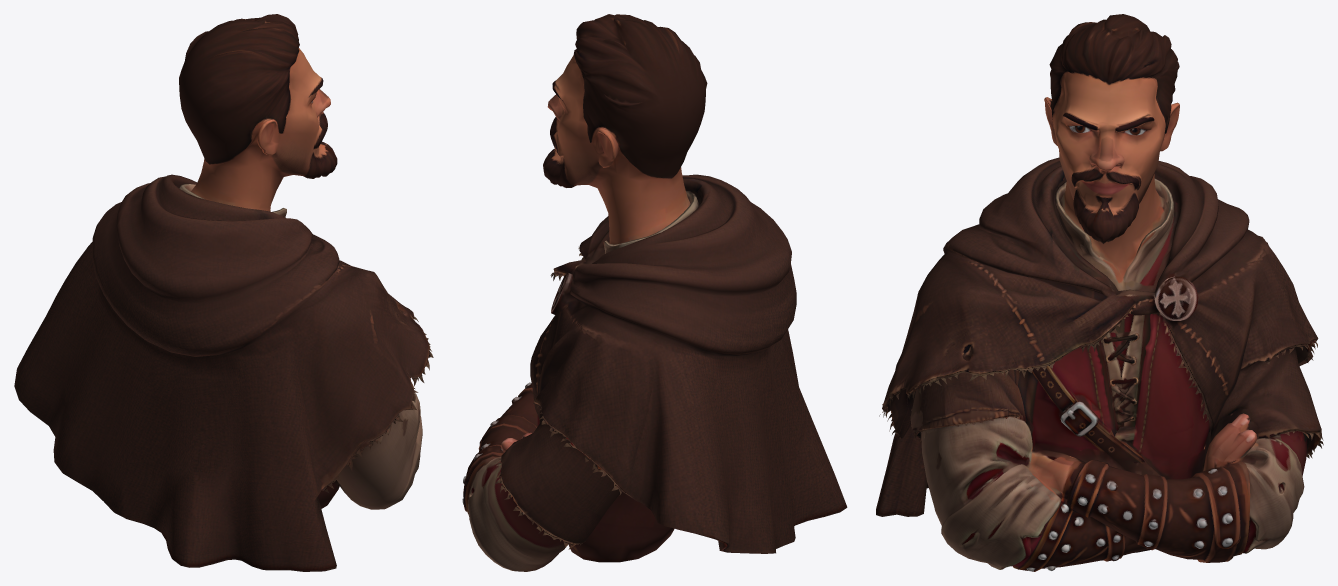
Rendered from 3d game.fbx.
The picture shows the model from 3 angles, left to right: view 1: azimuth 30°, elevation 25°; view 2: azimuth 150°, elevation 25°; view 3: azimuth 270°, elevation 25°; orthographic projection. The views are drawn at different scales.
Visible parts, largest first — view 1: tripo_9699ab1f_d82c_44cb_9e6e_0634aac53d34; view 2: tripo_9699ab1f_d82c_44cb_9e6e_0634aac53d34; view 3: tripo_9699ab1f_d82c_44cb_9e6e_0634aac53d34.
Part boxes in pixels (x1,y1,x2,y2): tripo_9699ab1f_d82c_44cb_9e6e_0634aac53d34: (14,14,433,571); tripo_9699ab1f_d82c_44cb_9e6e_0634aac53d34: (462,14,847,571); tripo_9699ab1f_d82c_44cb_9e6e_0634aac53d34: (876,14,1323,571).
Size of the model in its own units: 0.6401 by 0.9995 by 0.7954.
Materials: 1 (1 with a texture image).
